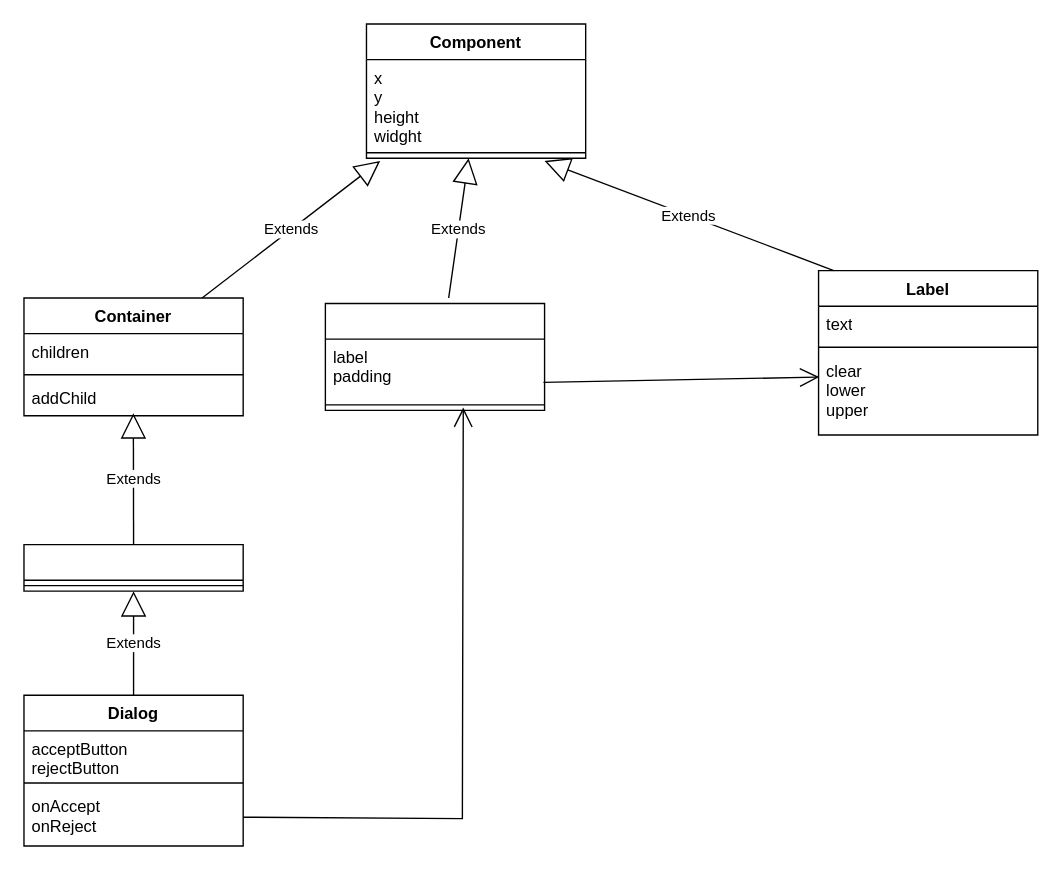
The diagram is 1062 pixels wide and 874 high, and some of its shapes have lost their labels. Here are the shapes that lost their labels. From the top down, the box of each, then its label:
(324, 302, 545, 410): Button
(23, 543, 243, 591): Window
